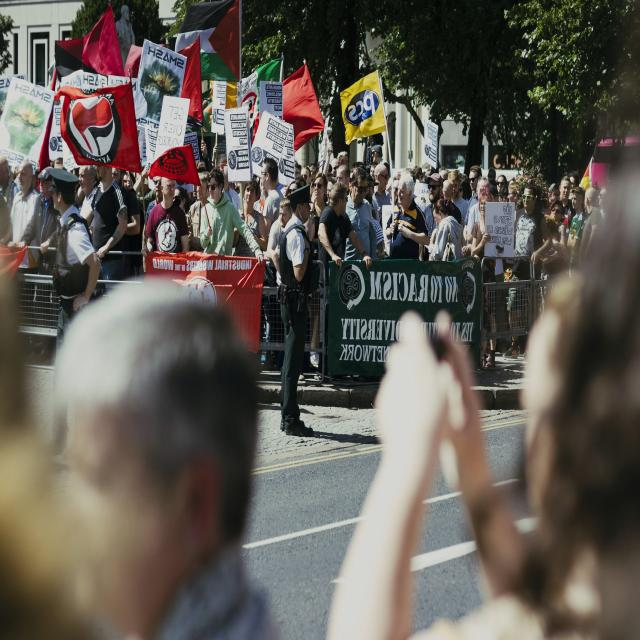adult: (274, 182, 322, 442), (194, 168, 260, 258), (319, 177, 374, 269), (387, 170, 432, 260), (145, 172, 190, 255), (345, 171, 380, 260), (232, 176, 271, 255)
